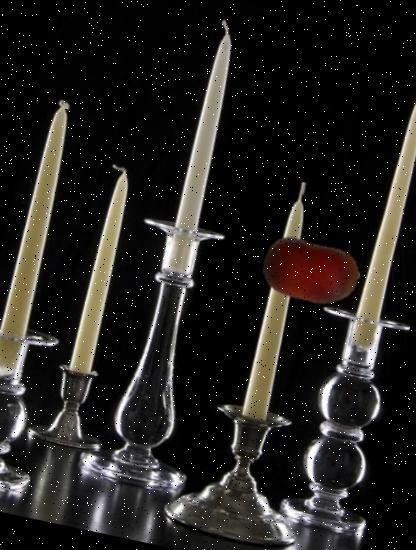Nectarine: (253, 214, 369, 330)
